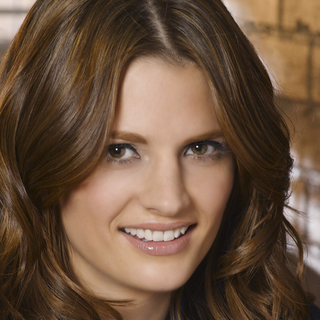eye: (94, 138, 145, 166), (177, 138, 226, 164)
